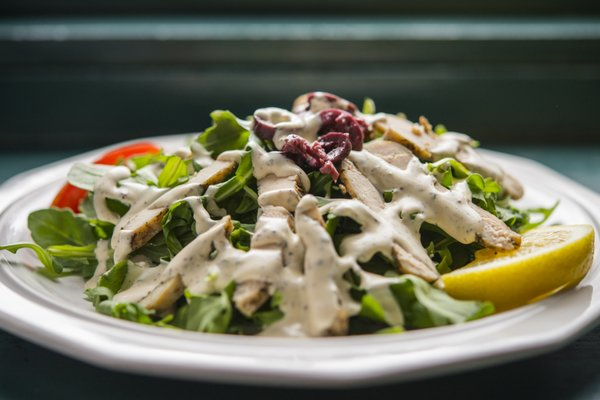steak: (440, 221, 597, 311)
sushi: (9, 75, 600, 391)
